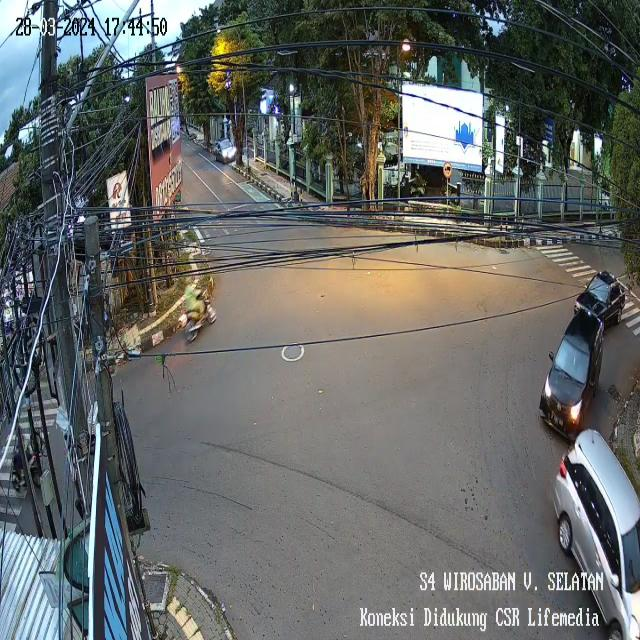car: (552, 418, 640, 640), (538, 300, 607, 452), (569, 260, 629, 346), (212, 138, 240, 165)
